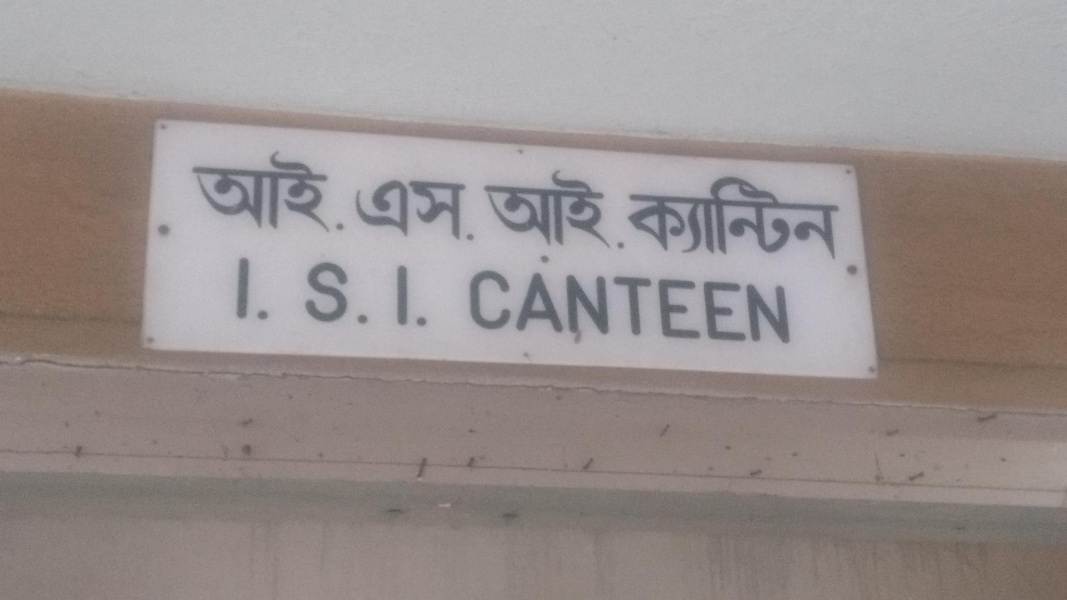text: (641, 172, 656, 264), (657, 172, 672, 264), (673, 172, 688, 264), (689, 172, 704, 264), (705, 172, 720, 264), (721, 172, 736, 264), (737, 172, 752, 264), (753, 172, 768, 264), (769, 172, 784, 264), (785, 172, 800, 264), (801, 172, 816, 264), (817, 172, 832, 264), (193, 149, 208, 236), (209, 149, 224, 236), (225, 149, 240, 236), (241, 149, 256, 236), (257, 149, 272, 236), (273, 149, 288, 236), (289, 149, 304, 236), (305, 149, 320, 236), (321, 149, 336, 236), (497, 166, 512, 253), (513, 166, 528, 253), (529, 166, 544, 253), (545, 166, 560, 253), (561, 166, 576, 253), (577, 166, 592, 253), (593, 166, 608, 253), (609, 166, 624, 253), (481, 267, 496, 346), (497, 267, 512, 346), (513, 267, 528, 346), (529, 267, 544, 346), (545, 267, 560, 346), (561, 267, 576, 346), (577, 267, 592, 346), (593, 267, 608, 346), (609, 267, 624, 346), (625, 267, 640, 346), (641, 267, 656, 346), (657, 267, 672, 346), (673, 267, 688, 346), (689, 267, 704, 346), (705, 267, 720, 346), (721, 267, 736, 346), (737, 267, 752, 346), (753, 267, 768, 346), (769, 267, 784, 346), (628, 172, 640, 264), (833, 172, 845, 264), (369, 173, 384, 246), (385, 173, 400, 246), (401, 173, 416, 246), (417, 173, 432, 246), (433, 173, 448, 246), (449, 173, 464, 246), (465, 173, 480, 246), (321, 257, 336, 329), (337, 257, 352, 329), (257, 256, 273, 322), (401, 261, 416, 330), (354, 173, 368, 246), (353, 257, 367, 329), (241, 256, 256, 322), (485, 166, 496, 253), (468, 267, 480, 346), (337, 149, 347, 236), (308, 257, 320, 329), (417, 261, 429, 330), (785, 267, 792, 346), (394, 261, 400, 330), (234, 256, 240, 322), (625, 166, 627, 253), (191, 149, 192, 236)
